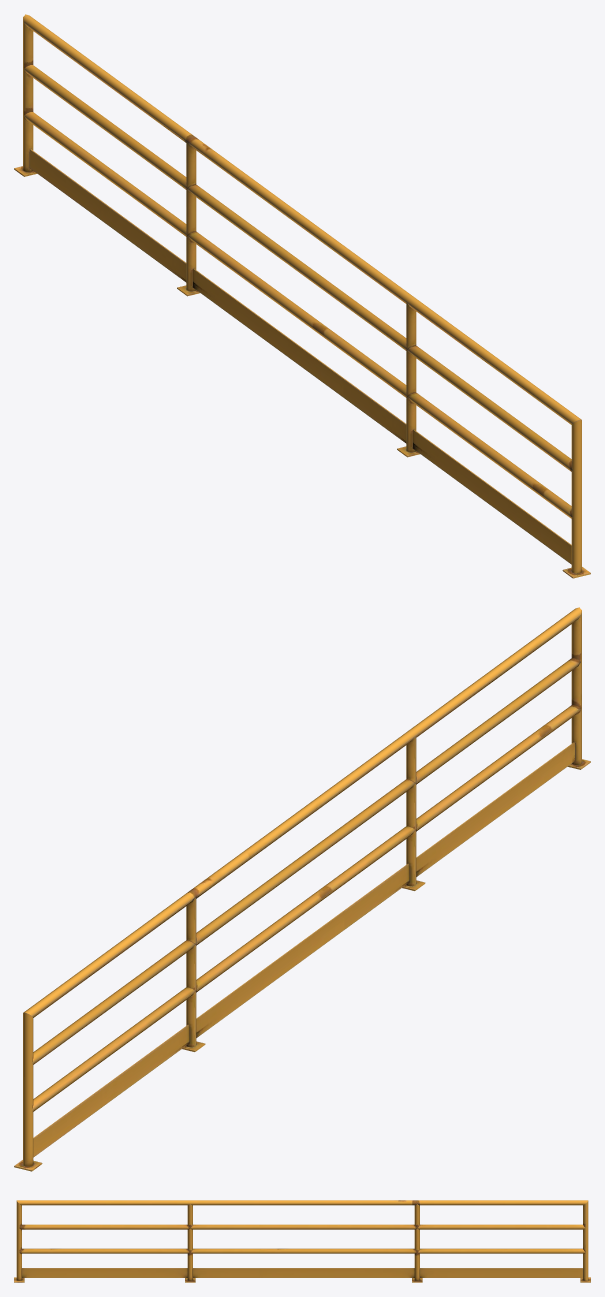
3 views of the same model, one above another, from view 1: azimuth 30°, elevation 25°; view 2: azimuth 150°, elevation 25°; view 3: azimuth 270°, elevation 25° (orthographic). The views are drawn at different scales.
Parts seen in each view (by area): view 1: body0_model0_lod0_mesh0; view 2: body0_model0_lod0_mesh0; view 3: body0_model0_lod0_mesh0.
Part boxes in pixels (<box>): body0_model0_lod0_mesh0: <box>14,14,590,578</box>; body0_model0_lod0_mesh0: <box>14,607,590,1171</box>; body0_model0_lod0_mesh0: <box>14,1200,590,1282</box>.
Size of the model in its own units: 4.01 by 32.99 by 216.
Materials: 1 (1 with a texture image).
